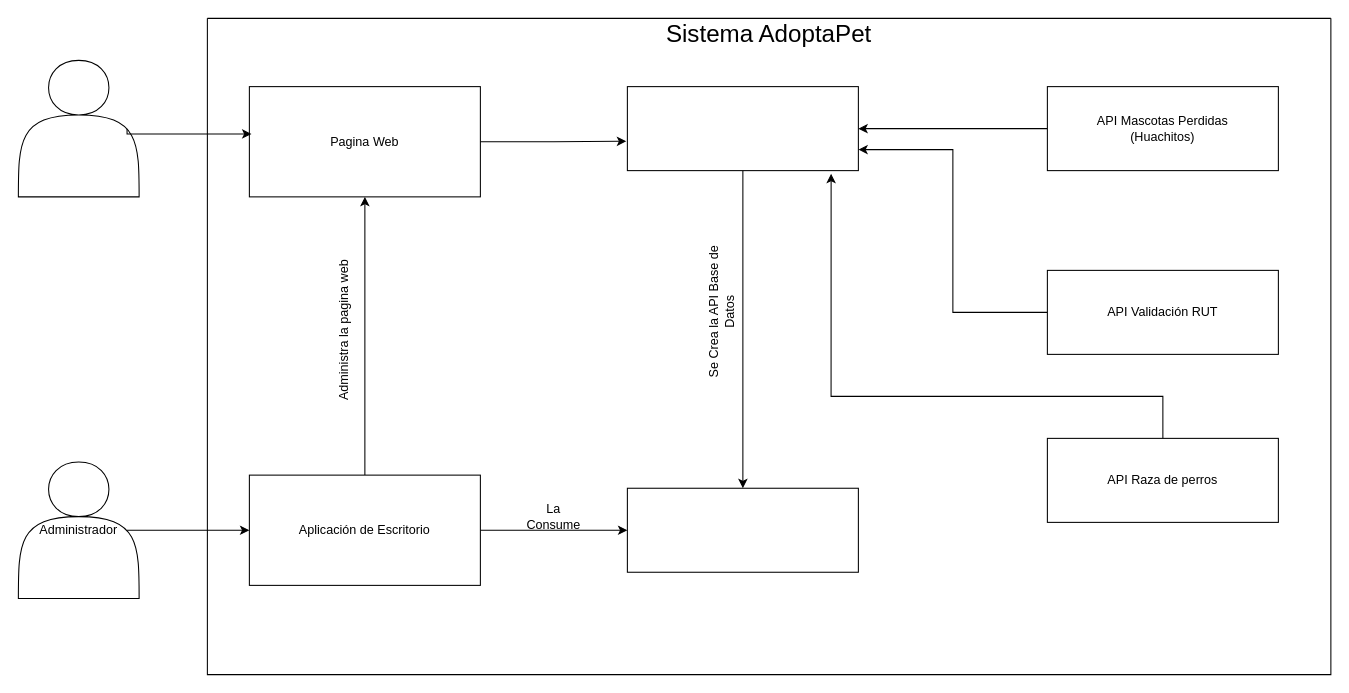
This 1349x693 diagram has some shape labels left out. Each missing label, with the box of its shape:
API (Base de Datos): (626, 487, 858, 572)
Base de Datos (Postgres): (626, 86, 858, 171)
Usuario: (17, 59, 139, 197)
